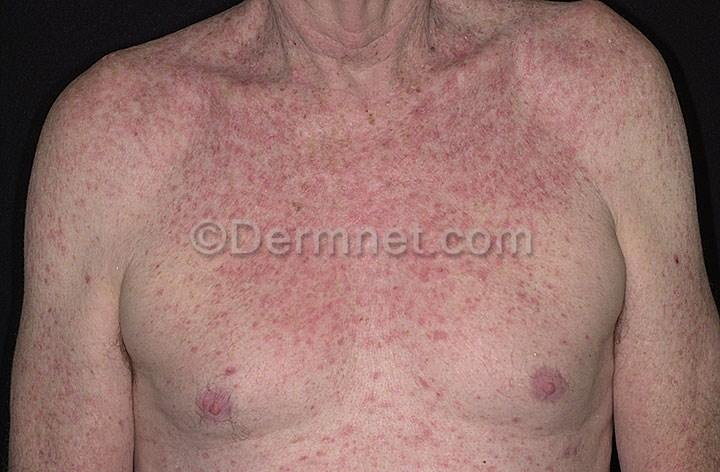Eczema: (110, 116, 337, 215), (407, 124, 574, 204), (33, 364, 134, 466), (467, 39, 593, 101), (175, 46, 270, 88)
